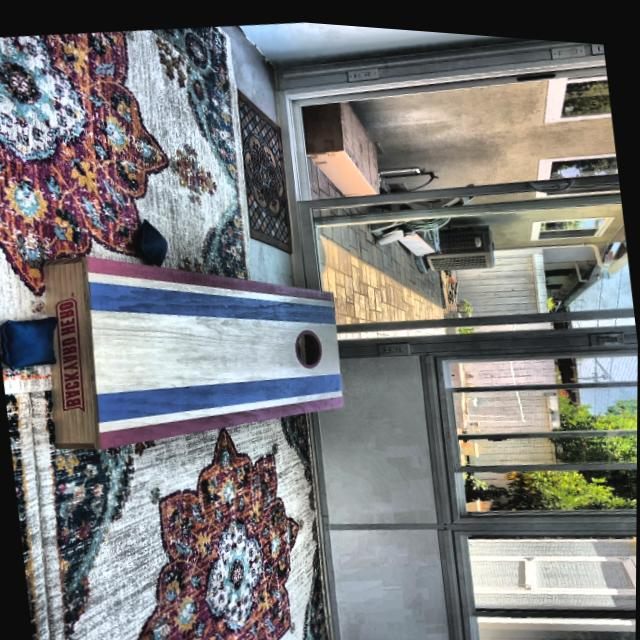blue-bean-bag: (0, 312, 61, 373), (133, 212, 171, 267)
board: (87, 264, 345, 436)
hole: (292, 322, 324, 366)
